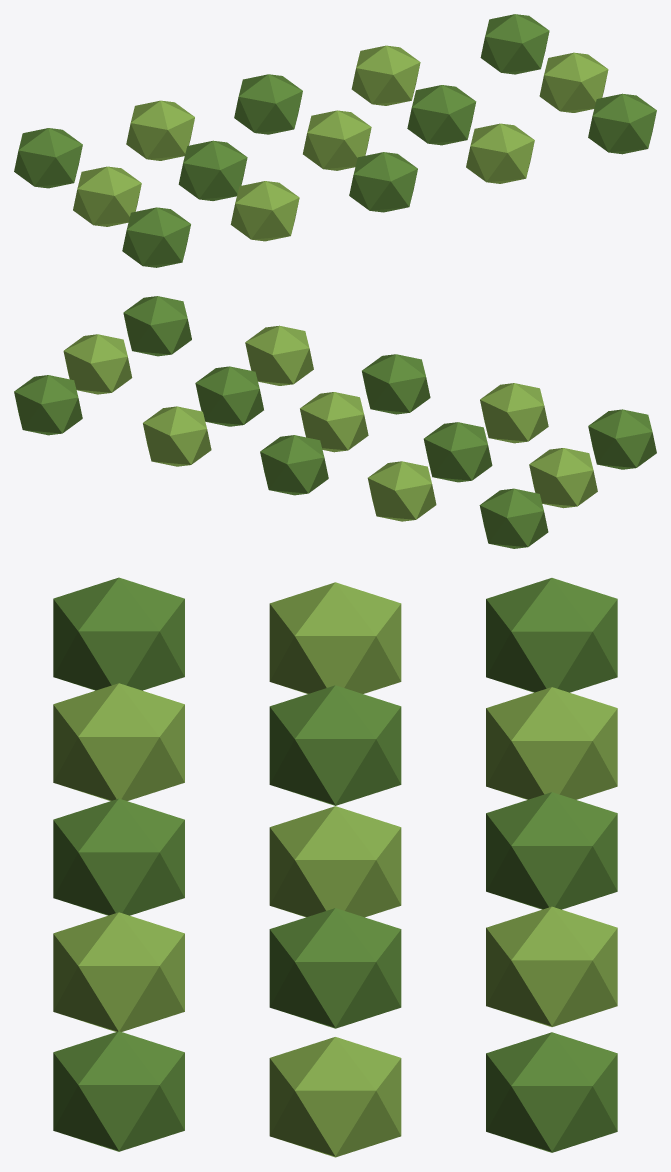
Rendered from Dorf_Feld_Kohl.fbx.
3 views of the same model, one above another, from view 1: azimuth 30°, elevation 25°; view 2: azimuth 150°, elevation 25°; view 3: azimuth 270°, elevation 25° (orthographic). The views are drawn at different scales.
Parts seen in each view (by area): view 1: Dorf_Feld_Kohl; view 2: Dorf_Feld_Kohl; view 3: Dorf_Feld_Kohl.
Part boxes in pixels (left/top/right/bottom): Dorf_Feld_Kohl: left=14, top=14, right=656, bottom=267; Dorf_Feld_Kohl: left=14, top=296, right=656, bottom=548; Dorf_Feld_Kohl: left=53, top=577, right=617, bottom=1157.
Bounding box in the file's own units: 3.68 × 0.4 × 1.7.
